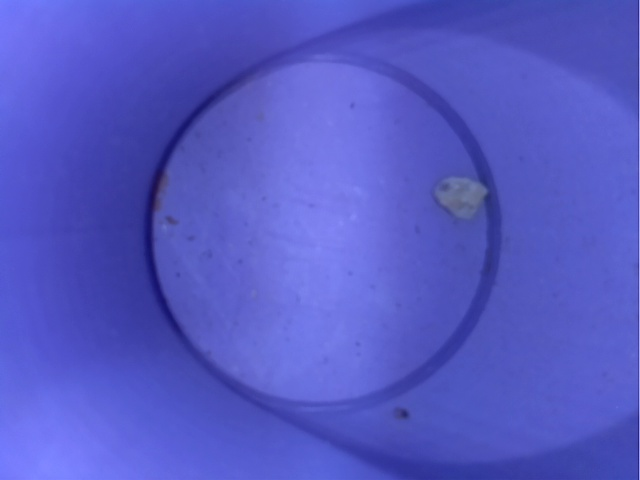caillou: (422, 159, 499, 231)
